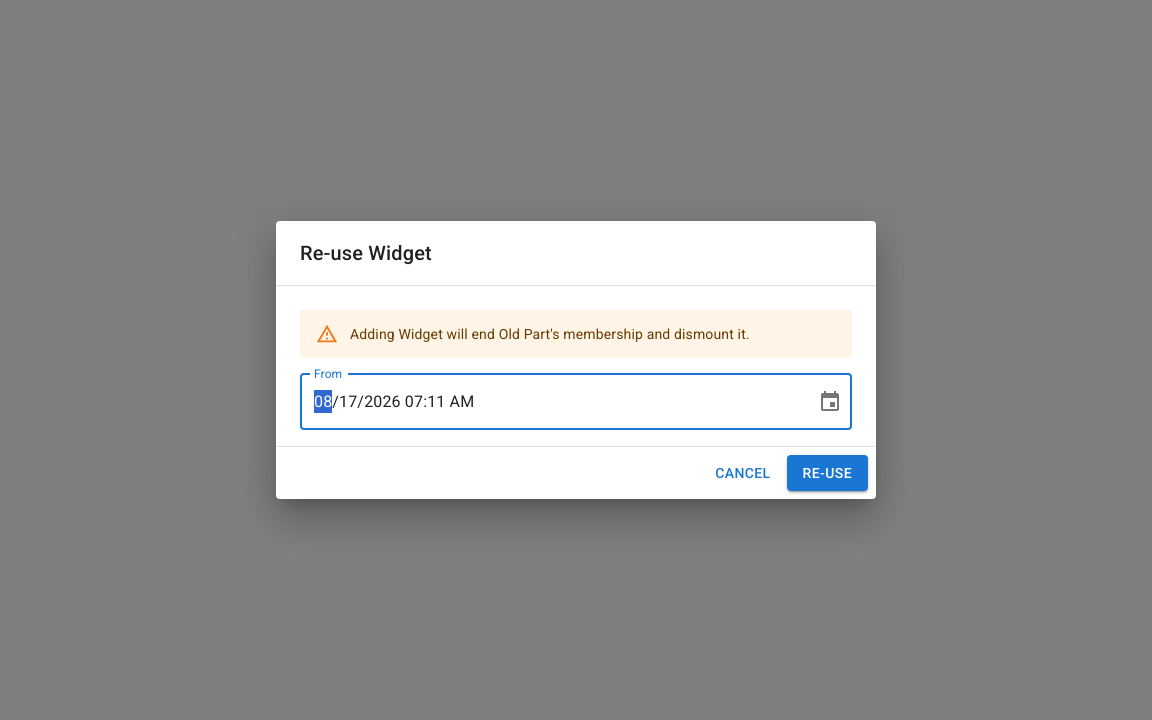
Test: ReuseMemberDialog › shows a tailored inline error and keeps the dialog open on MOUNTING_GOVERNED, reassuring the occupant is unchanged
This screenshot has width=1152, height=720.
Click the button "Re-use": (827,473) 787,455 -> 868,491
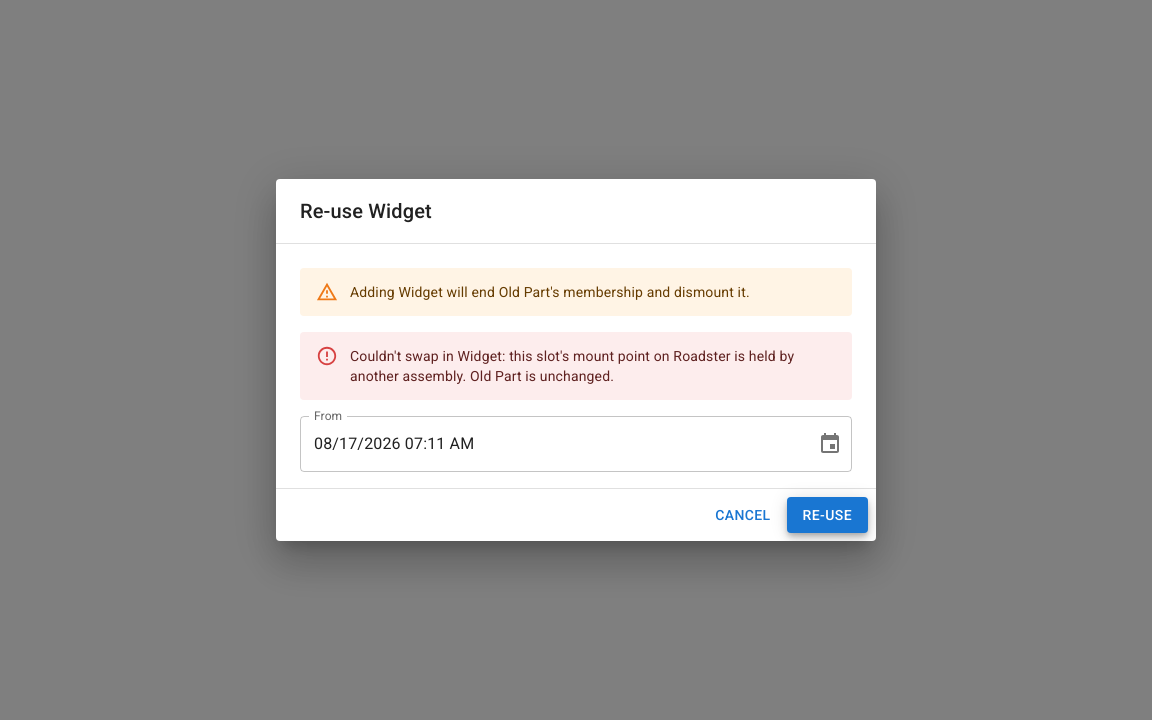
Expected: the button "Re-use" is shown, 787,497 -> 868,533
Result: the text "old part is unchanged" is shown at 350,348 -> 794,384
